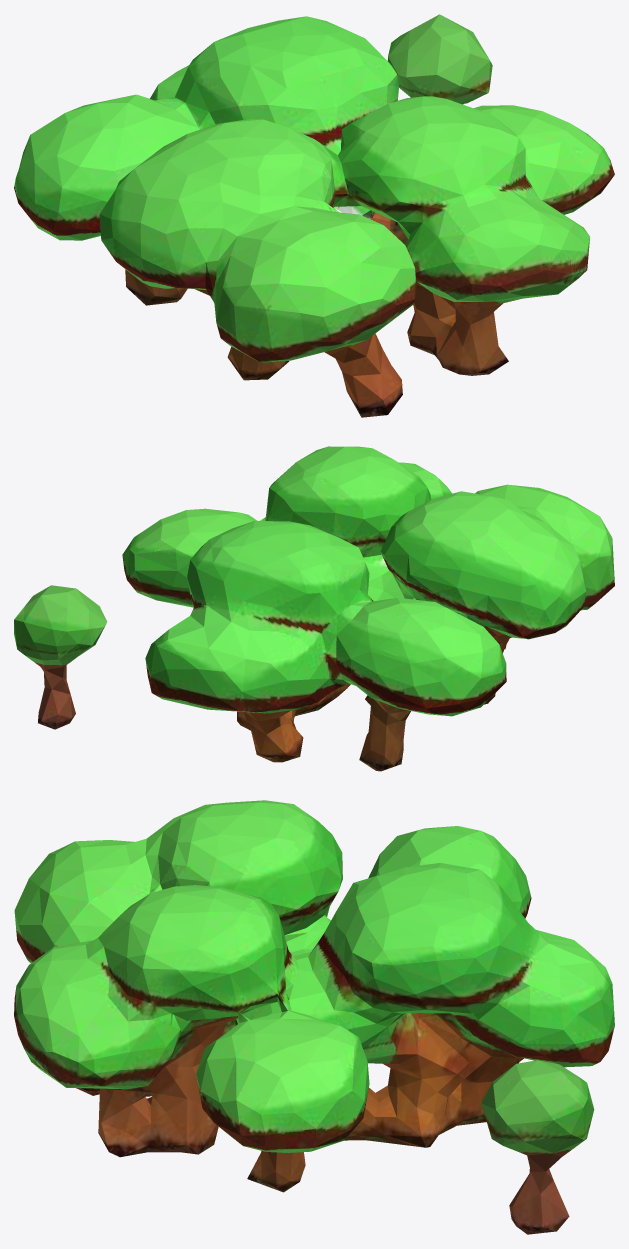
Rendered from orman_agaclar.glb.
3 views of the same model, one above another, from view 1: azimuth 30°, elevation 25°; view 2: azimuth 150°, elevation 25°; view 3: azimuth 270°, elevation 25° (orthographic). The views are drawn at different scales.
Visible parts, largest first — view 1: geometry_0; view 2: geometry_0; view 3: geometry_0.
Boxes of the visible parts, x1,y1,x2,y2 form: geometry_0: (14, 14, 614, 417); geometry_0: (14, 446, 614, 771); geometry_0: (14, 800, 614, 1234).
Size of the model in its own units: 0.9706 by 0.4417 by 0.9697.
Materials: 1 (1 with a texture image).
